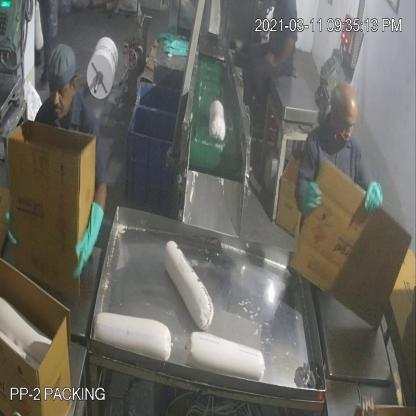glove: (70, 203, 109, 277)
no_glove: (264, 34, 298, 71)
